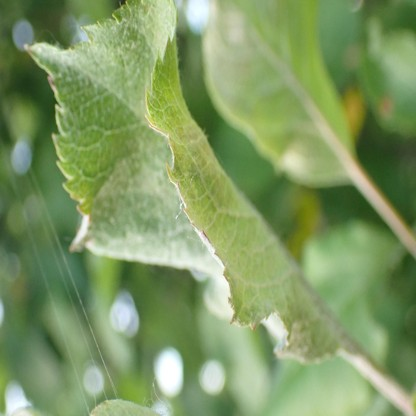powder: (70, 143, 219, 273), (29, 0, 177, 120), (90, 398, 160, 416)
